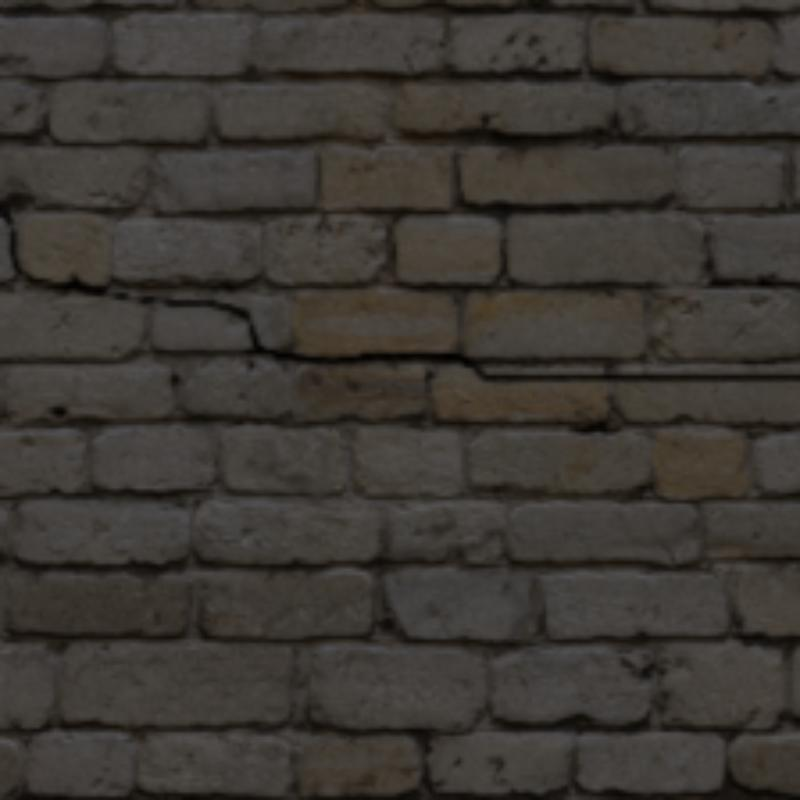pothole: (212, 302, 796, 381), (11, 236, 195, 304)
